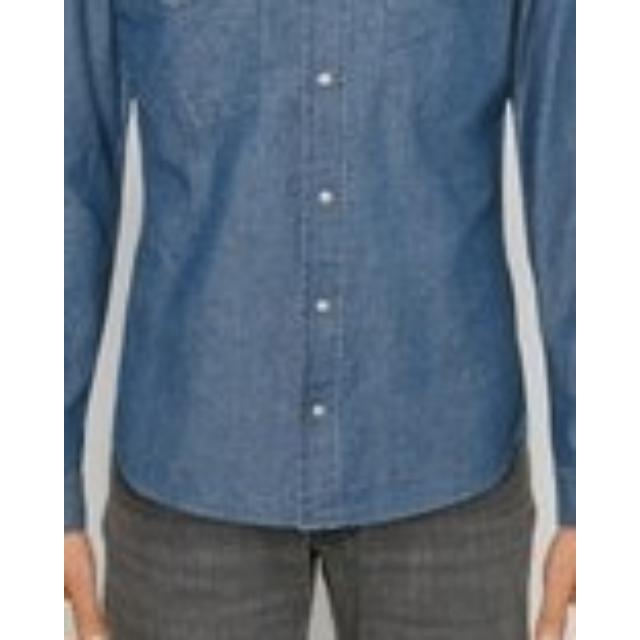denim: (64, 1, 576, 534)
